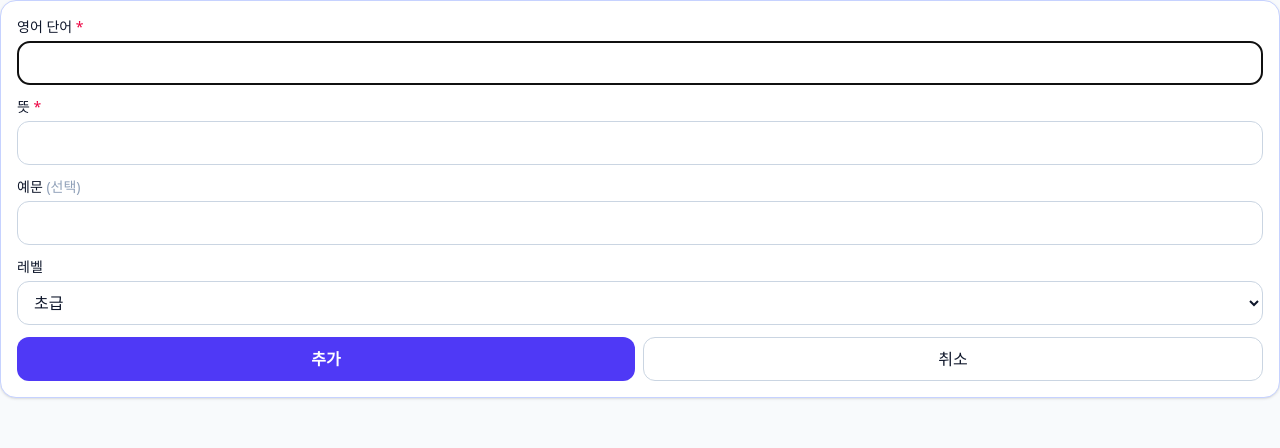
Test case: WordForm: 기타 › 저장에 실패하면 오류 메시지를 보여 준다
Type "tide" into the field labelled "영어 단어 *".
click(640, 63); type("tide")  # box [17,41,1263,85]
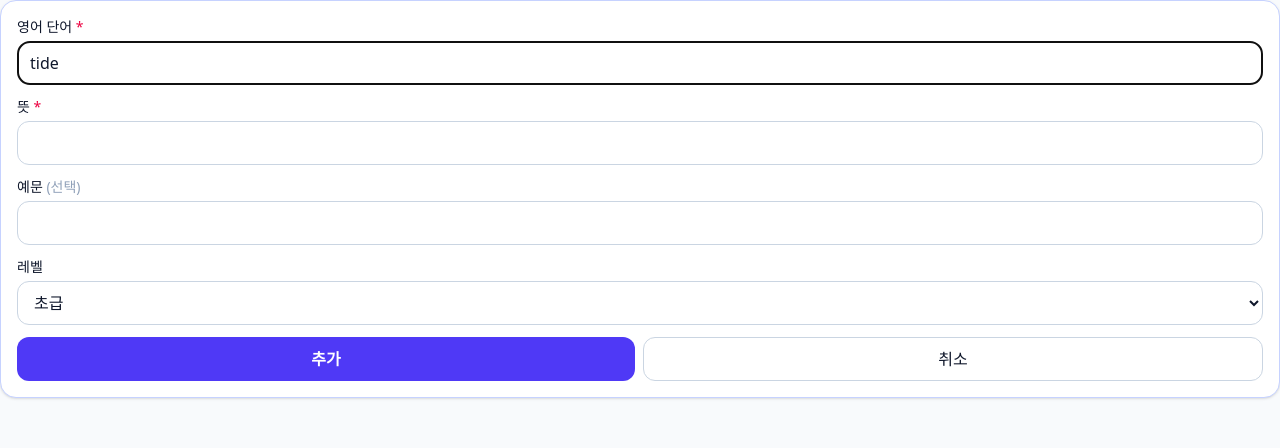
Type "조수" into the field labelled "뜻 *".
click(640, 143); type("조수")  # box [17,121,1263,165]
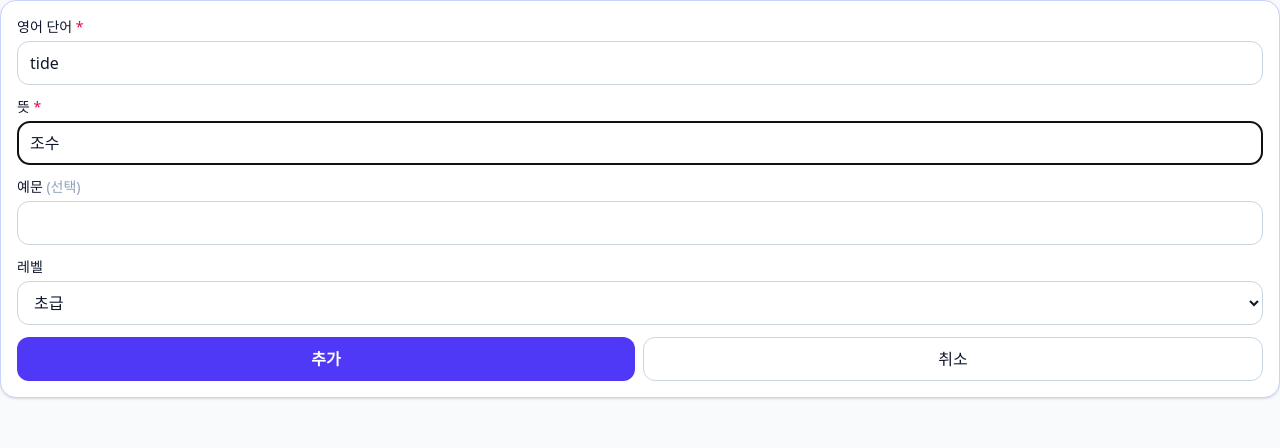
Click the button "추가".
click(326, 359)  # box [17,337,635,381]
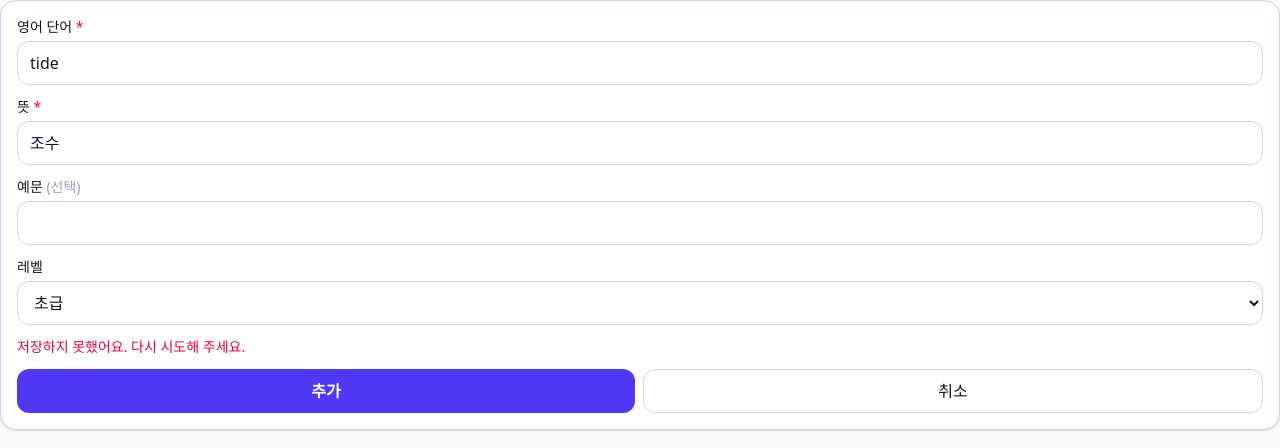
Check: the message shows "저장하지 못했어요", box [17,337,245,356]
